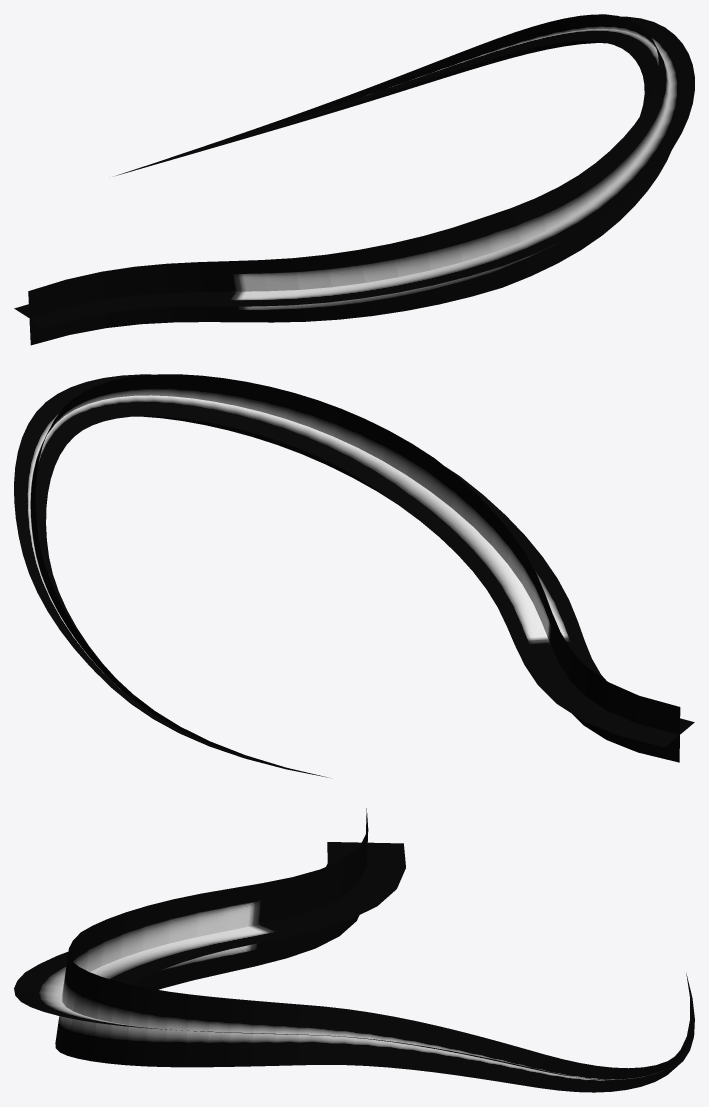
Rendered from TypeZero1.fbx.
3 views of the same model, one above another, from view 1: azimuth 30°, elevation 25°; view 2: azimuth 150°, elevation 25°; view 3: azimuth 270°, elevation 25° (orthographic). The views are drawn at different scales.
Visible parts, largest first — view 1: SM_WEP_Eff_D61NJ1_A_01.mo; view 2: SM_WEP_Eff_D61NJ1_A_01.mo; view 3: SM_WEP_Eff_D61NJ1_A_01.mo.
Boxes of the visible parts, left/top/right/bottom form: SM_WEP_Eff_D61NJ1_A_01.mo: left=14, top=14, right=694, bottom=345; SM_WEP_Eff_D61NJ1_A_01.mo: left=14, top=374, right=694, bottom=777; SM_WEP_Eff_D61NJ1_A_01.mo: left=14, top=808, right=694, bottom=1092.
Bounding box in the file's own units: 900 × 263 × 665.
